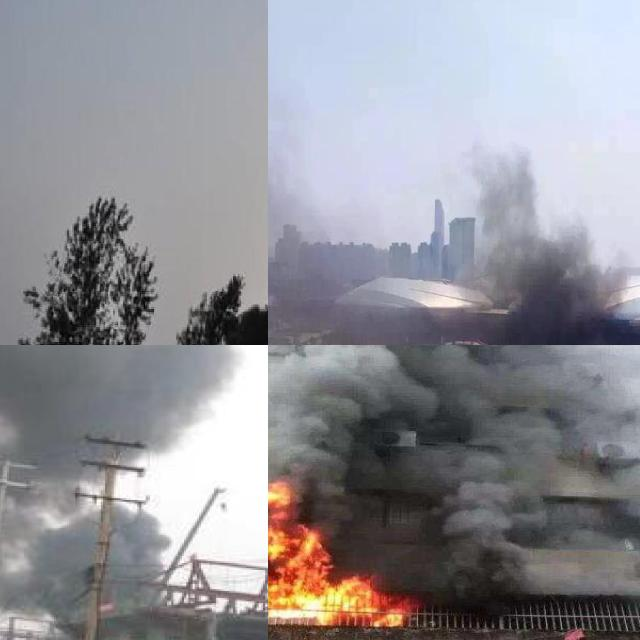fire: (268, 482, 409, 625)
smoke: (275, 345, 640, 609), (0, 345, 268, 613), (268, 73, 466, 345), (473, 138, 631, 345), (195, 0, 268, 345)
